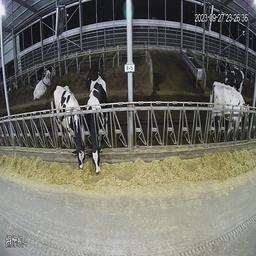cow: (52, 84, 85, 170), (87, 77, 109, 174), (225, 88, 256, 138), (219, 67, 243, 102), (32, 70, 53, 99), (86, 58, 103, 90)
